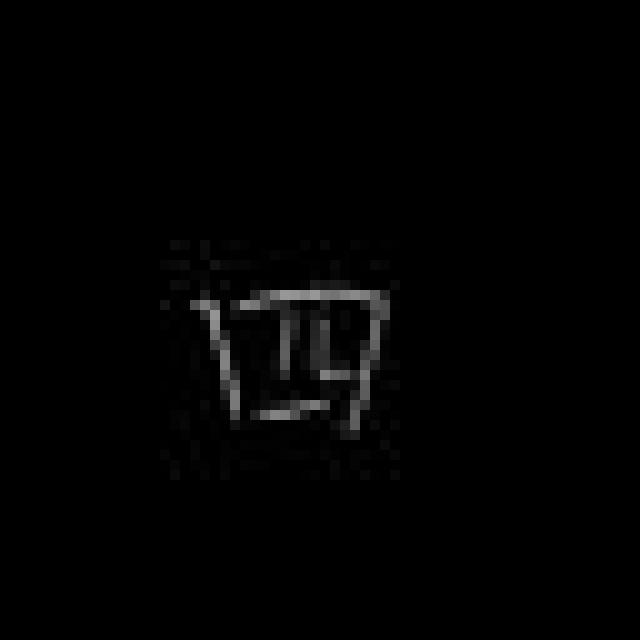4 -four-: (180, 261, 405, 464)
